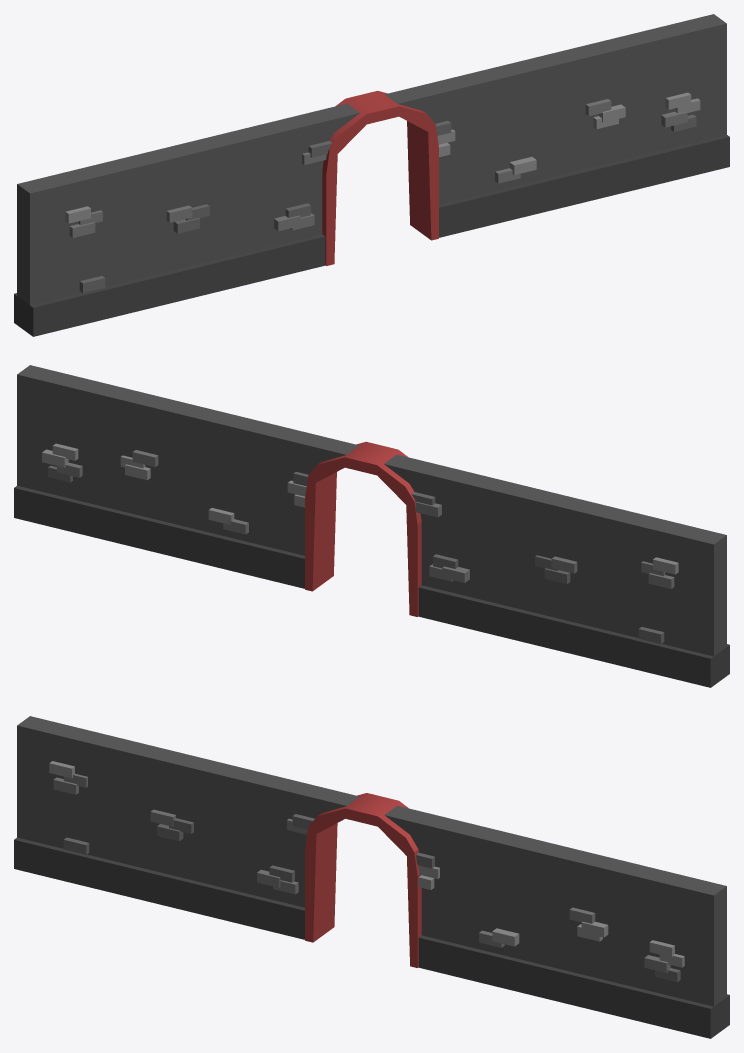
The model's file is DoorWall1.fbx.
3 renders of one model, top to bottom at view 1: azimuth 30°, elevation 25°; view 2: azimuth 150°, elevation 25°; view 3: azimuth 330°, elevation 25°, orthographic.
Visible parts, largest first — view 1: DoorWall1; view 2: DoorWall1; view 3: DoorWall1.
Boxes of the visible parts, bbox=[...] form: DoorWall1: bbox=[14, 14, 729, 336]; DoorWall1: bbox=[14, 365, 729, 687]; DoorWall1: bbox=[14, 716, 729, 1038].
Bounding box in the file's own units: 31 × 6.05 × 1.74.
